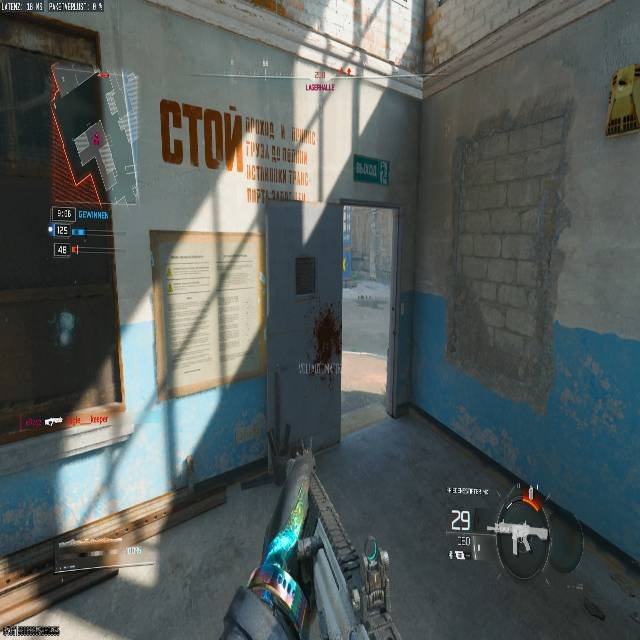head: (323, 306, 333, 317)
player: (310, 305, 339, 378)
